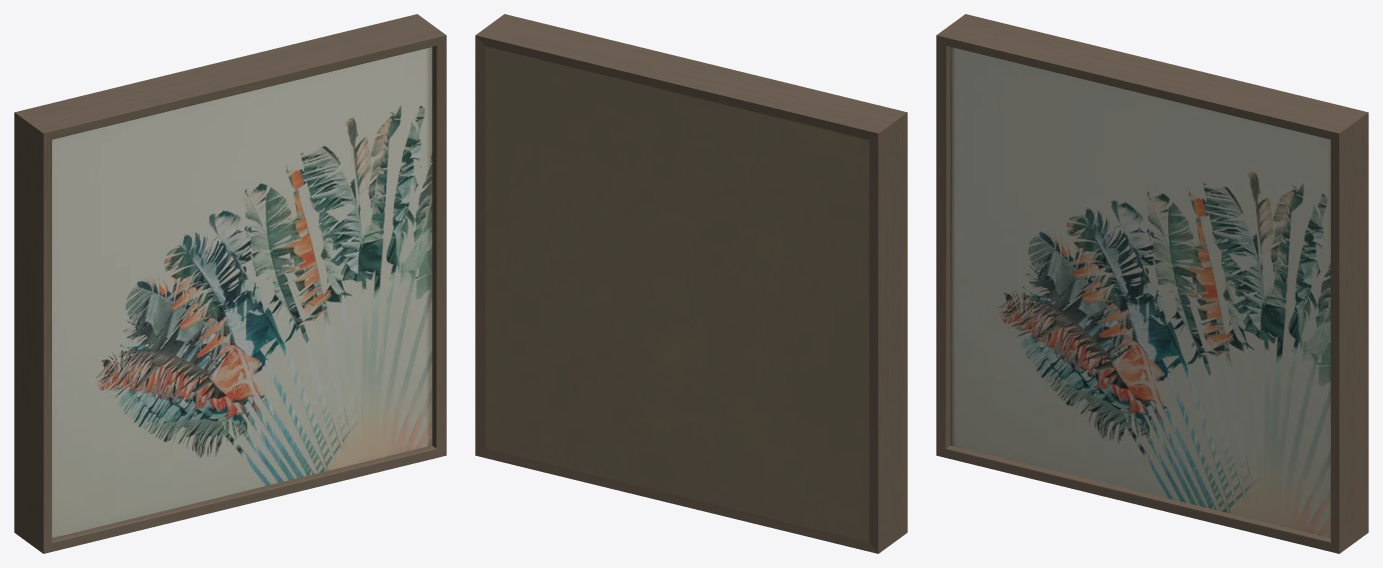
File: abo-B073P5MPW9.glb
The picture shows the model from 3 angles, left to right: view 1: azimuth 30°, elevation 25°; view 2: azimuth 150°, elevation 25°; view 3: azimuth 330°, elevation 25°; orthographic projection.
Bounding box in the file's own units: 0.304 × 0.303 × 0.038.
Materials: 1 (1 with a texture image).
